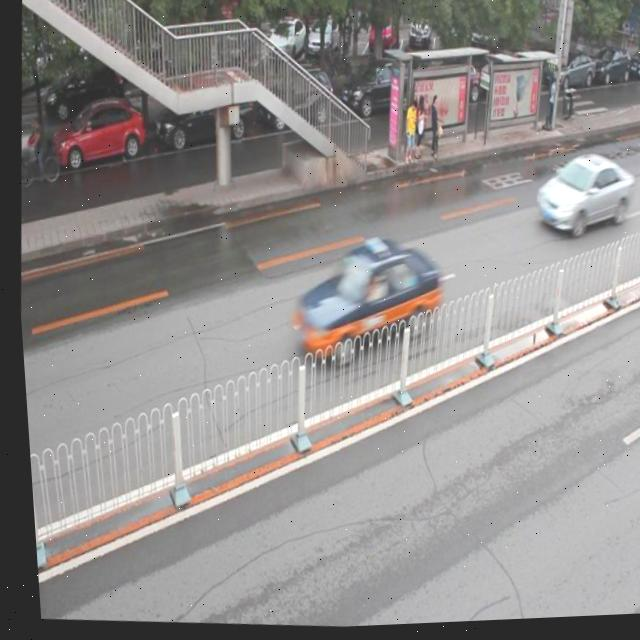car: (280, 231, 443, 372), (526, 153, 635, 244), (46, 99, 147, 173), (149, 88, 255, 157), (333, 57, 419, 130), (255, 71, 335, 137), (15, 117, 38, 185)
